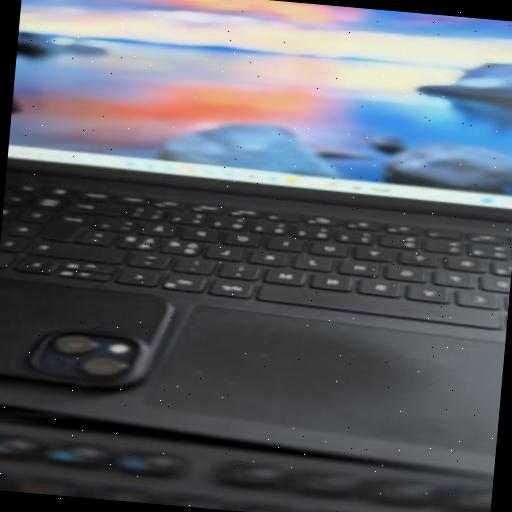phone: (0, 282, 157, 393)
